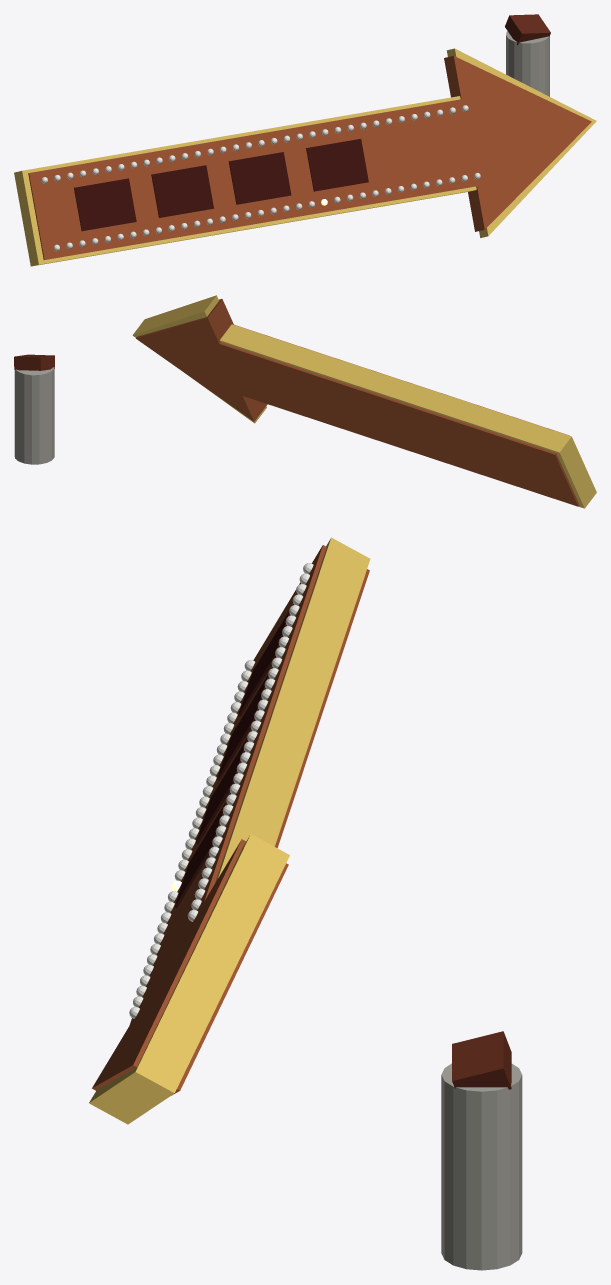
File: strip_sign.glb
3 views of the same model, one above another, from view 1: azimuth 30°, elevation 25°; view 2: azimuth 150°, elevation 25°; view 3: azimuth 270°, elevation 25° (orthographic). The views are drawn at different scales.
Visible parts, largest first — view 1: strip_sign; view 2: strip_sign; view 3: strip_sign.
Part boxes in pixels (x1,y1,x2,y2): strip_sign: (14,14,596,266); strip_sign: (14,295,596,508); strip_sign: (89,537,522,1270).
Bounding box in the file's own units: 13.44 × 3.67 × 4.83.
